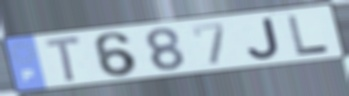6: (92, 31, 141, 79)
7: (189, 20, 228, 67)
8: (143, 27, 187, 73)
J: (245, 16, 282, 61)
L: (285, 13, 332, 57)
T: (42, 34, 84, 85)
